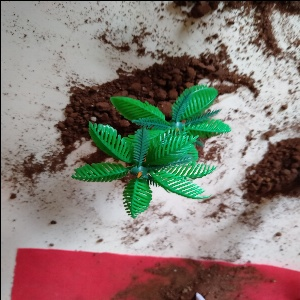plant: (74, 78, 221, 216)
